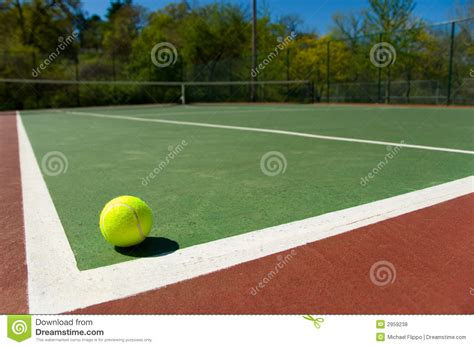tennis_ball: (98, 195, 155, 246)
